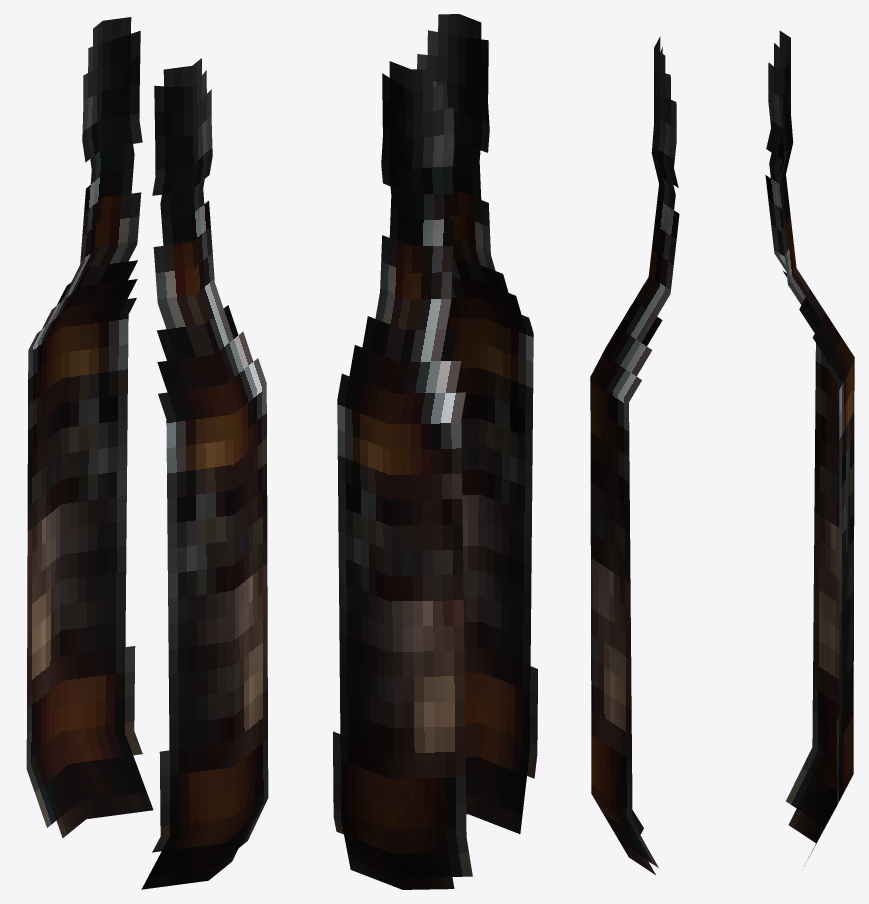
Rendered from GreedyHammer.fbx.
3 renders of one model, left to right at view 1: azimuth 30°, elevation 25°; view 2: azimuth 150°, elevation 25°; view 3: azimuth 270°, elevation 25°, orthographic.
Visible parts, largest first — view 1: Item_GreedyHammer; view 2: Item_GreedyHammer; view 3: Item_GreedyHammer.
Part boxes in pixels (box(x1,y1,x2,y2)): Item_GreedyHammer: box(26, 17, 268, 889); Item_GreedyHammer: box(333, 14, 537, 889); Item_GreedyHammer: box(590, 30, 854, 874).
Bounding box in the file's own units: 0.1474 × 0.497 × 0.1474.
Materials: 1 (1 with a texture image).
